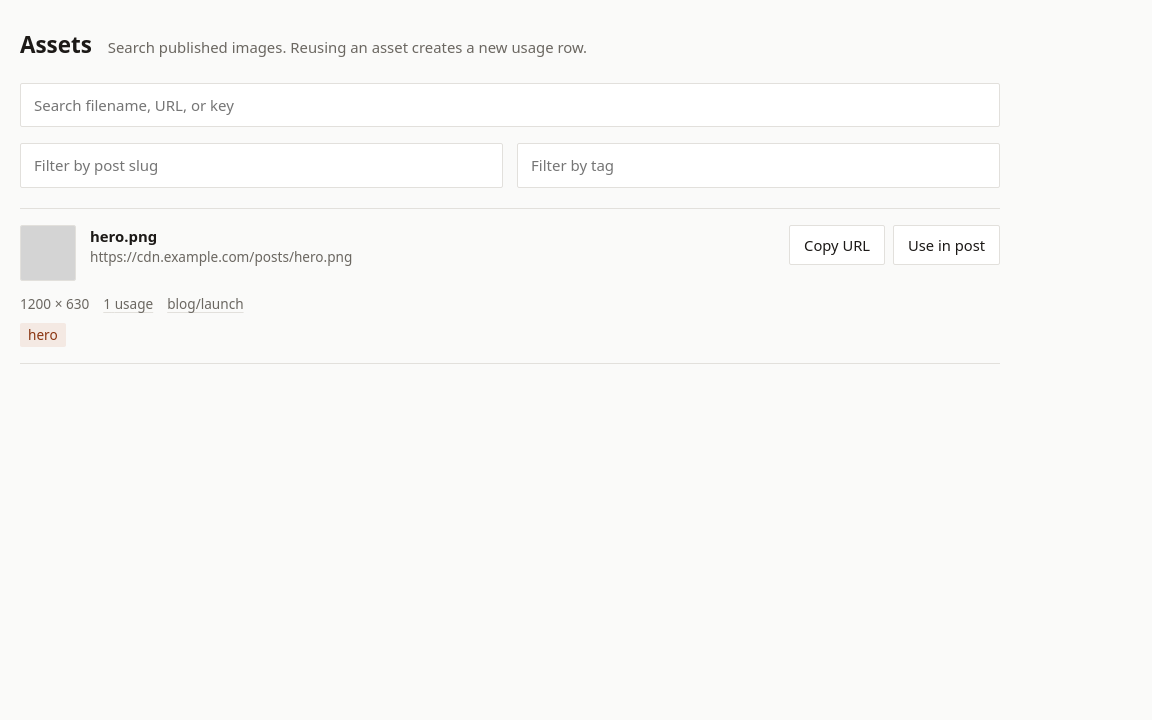
Test: AssetCatalog › requires a post slug before reusing an asset
Click the button "Use in post" at (946, 245), box [893,225,1000,265]
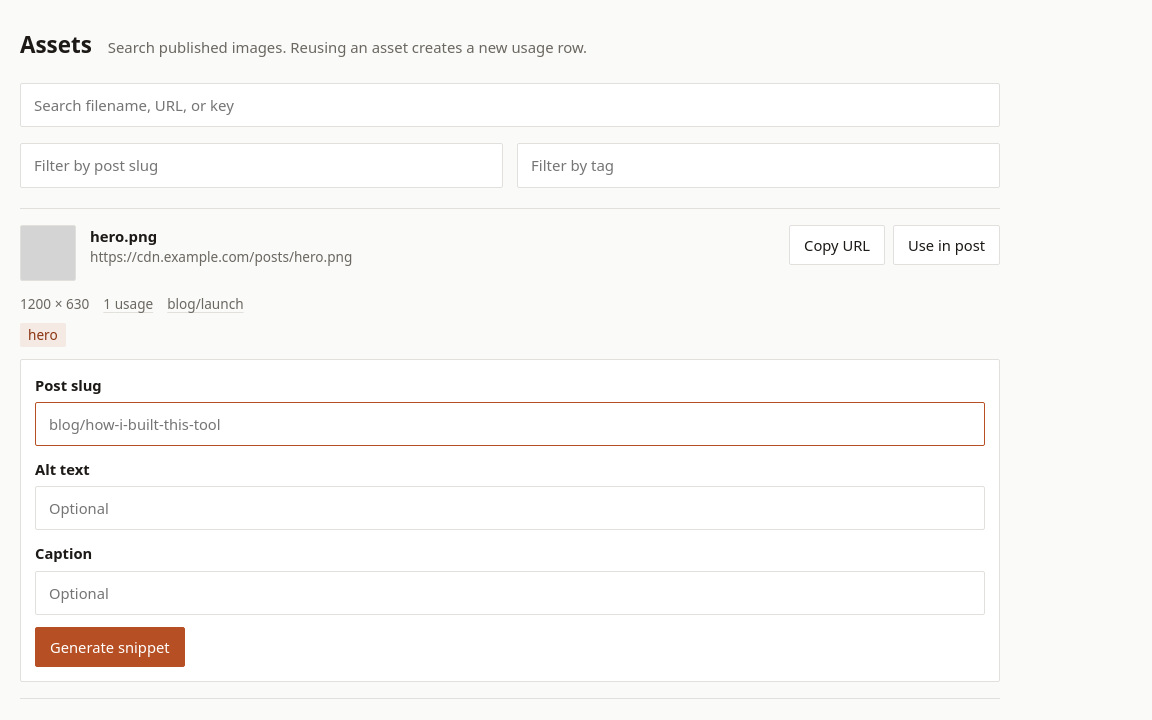
Click the button "Generate snippet" at (110, 647), box [35,627,185,667]
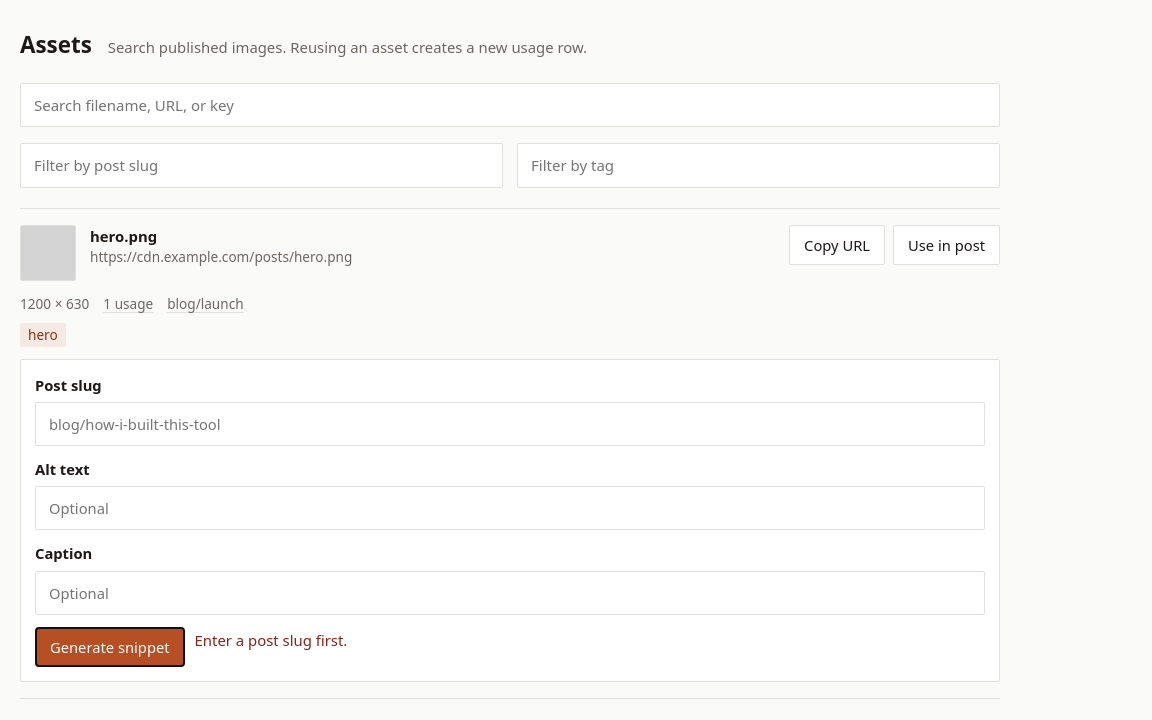
Check: the text "Enter a post slug first." is shown, box [195,630,347,650]
